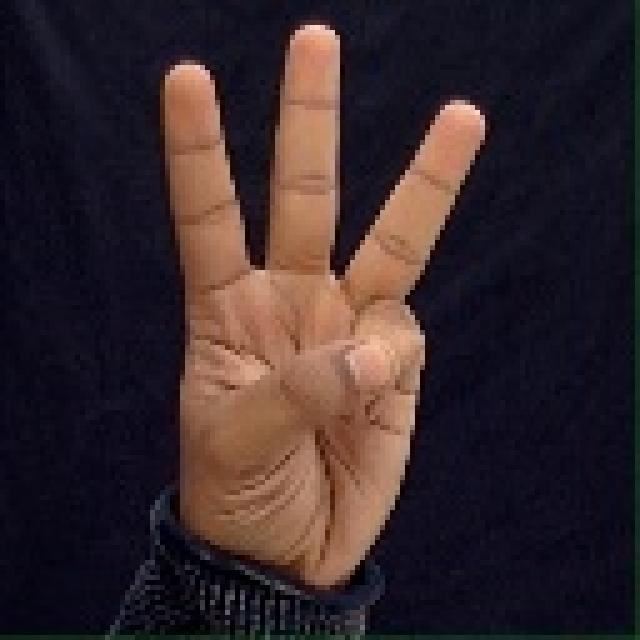Numeric-3: (159, 19, 489, 594)
